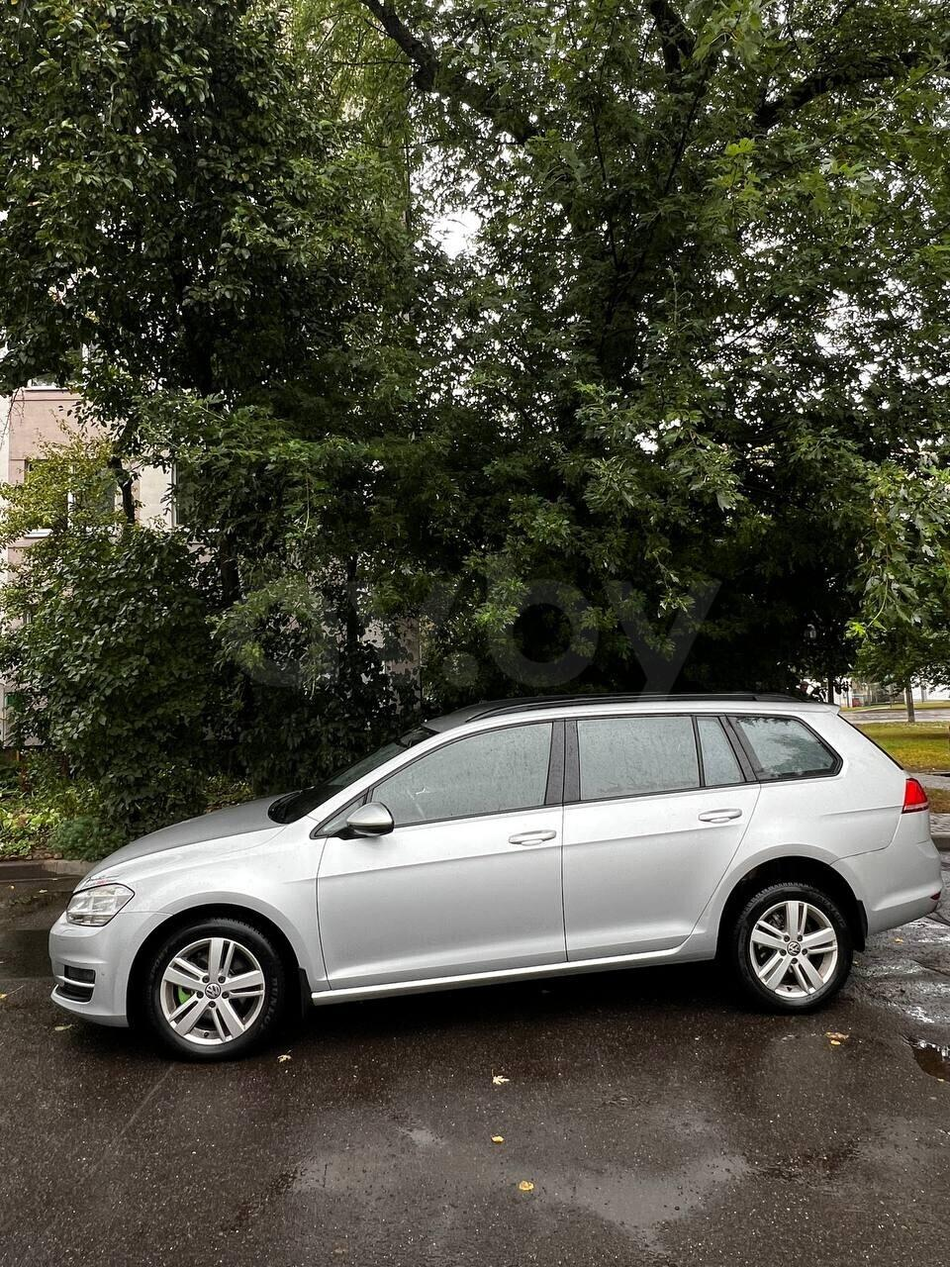Golf_2012-2017: (35, 688, 950, 1061)
